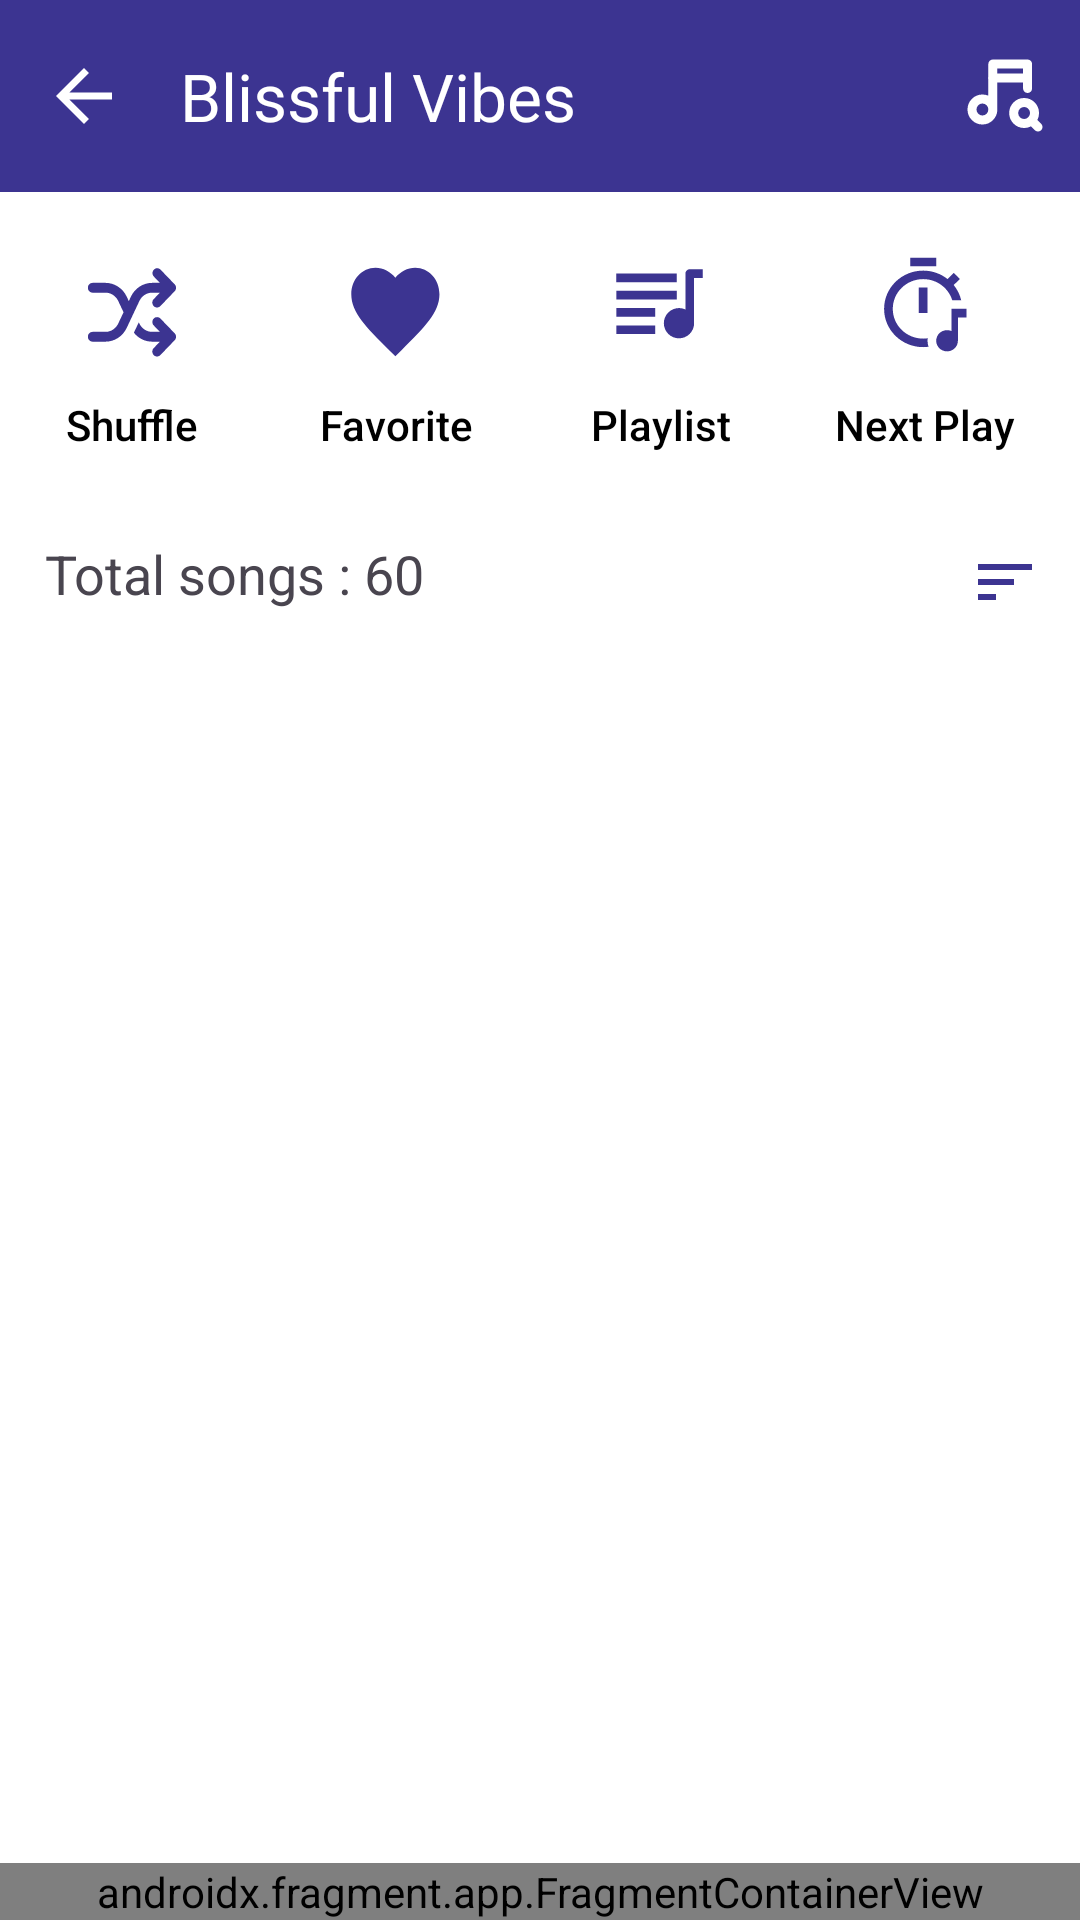

Screen size 1080×1920. Icon name, then its center in pixels as (x=x, y=y):
sort: (x=1005, y=582)
